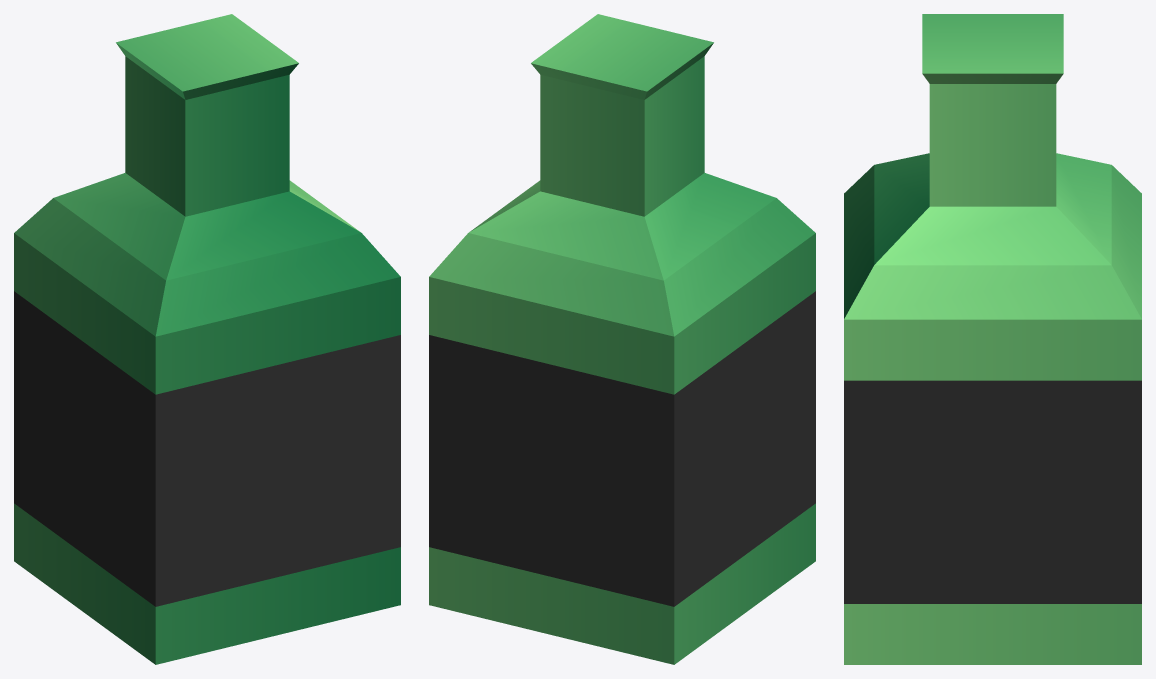
Rendered from B01_bouteille_2_c.fbx.
3 renders of one model, left to right at view 1: azimuth 30°, elevation 25°; view 2: azimuth 150°, elevation 25°; view 3: azimuth 270°, elevation 25°, orthographic. The views are drawn at different scales.
Visible parts, largest first — view 1: B01_bouteille_2_c; view 2: B01_bouteille_2_c; view 3: B01_bouteille_2_c.
Boxes of the visible parts, x1,y1,x2,y2 form: B01_bouteille_2_c: [14, 14, 400, 664]; B01_bouteille_2_c: [429, 14, 815, 664]; B01_bouteille_2_c: [844, 14, 1141, 664].
Bounding box in the file's own units: 10.81 × 22.35 × 10.81.
